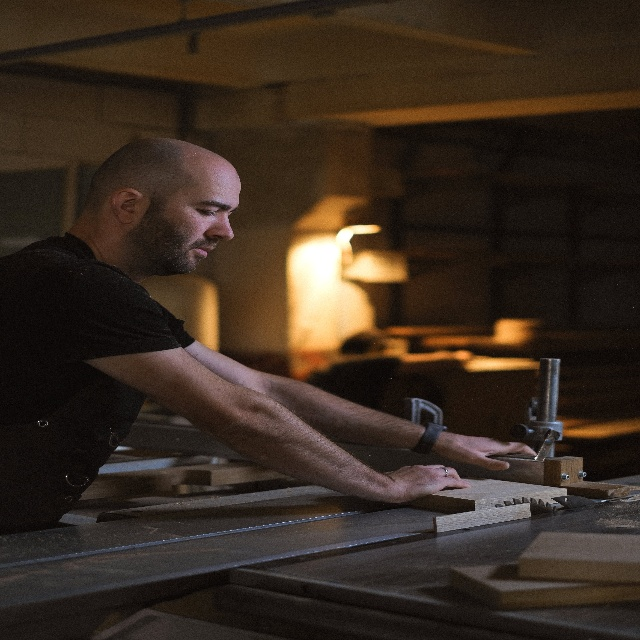Sin_guantes: (385, 462, 470, 504), (449, 435, 537, 471)
